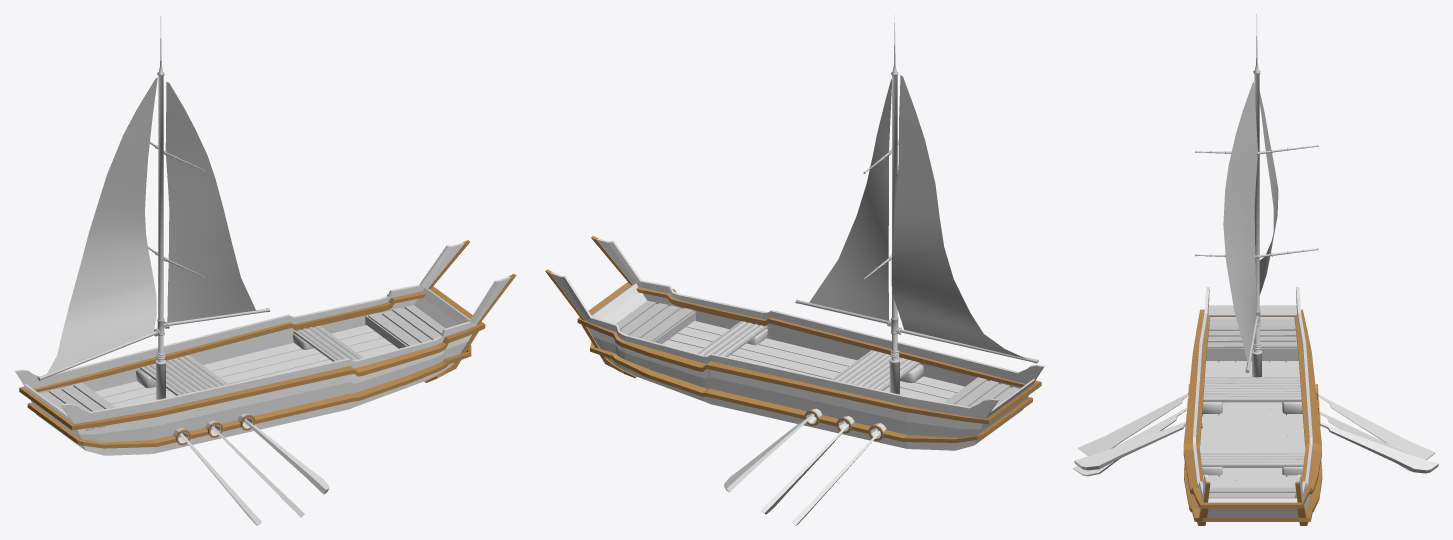
File: boat_C_UV.fbx
The picture shows the model from 3 angles, left to right: view 1: azimuth 30°, elevation 25°; view 2: azimuth 150°, elevation 25°; view 3: azimuth 270°, elevation 25°; orthographic projection. The views are drawn at different scales.
Visible parts, largest first — view 1: boat_C:Plane_013_Plane_015_Material_026, boat_C:steamer_002_Plane_153_steamer_002_Plane_153_Wood_003, boat_C:Phnom_Penh_045_Plane_240_Phnom_Penh_045_Plane_240_Glo, boat_C:Cube_326_Cube_346_Material_021, boat_C:Cube_314_Cube_330_Material_023, boat_C:Cylinder_010_Cylinder_010_Material_024, boat_C:Cylinder_077_Cylinder_083_Material_022, boat_C:Cube_981_Cube_1011_Cube_981_Cube_1011_Wood_004, boat_C:Cube_311_Cube_327_Material_028; view 2: boat_C:steamer_002_Plane_153_steamer_002_Plane_153_Wood_003, boat_C:Plane_013_Plane_015_Material_026, boat_C:Phnom_Penh_045_Plane_240_Phnom_Penh_045_Plane_240_Glo, boat_C:Cube_326_Cube_346_Material_021, boat_C:Cube_314_Cube_330_Material_023, boat_C:Cylinder_010_Cylinder_010_Material_024, boat_C:Cube_981_Cube_1011_Cube_981_Cube_1011_Wood_004, boat_C:Cylinder_077_Cylinder_083_Material_022, boat_C:Cube_311_Cube_327_Material_028; view 3: boat_C:Cube_326_Cube_346_Material_021, boat_C:Plane_013_Plane_015_Material_026, boat_C:Phnom_Penh_045_Plane_240_Phnom_Penh_045_Plane_240_Glo, boat_C:Cube_981_Cube_1011_Cube_981_Cube_1011_Wood_004, boat_C:steamer_002_Plane_153_steamer_002_Plane_153_Wood_003, boat_C:Cube_314_Cube_330_Material_023, boat_C:Cylinder_077_Cylinder_083_Material_022, boat_C:Cylinder_010_Cylinder_010_Material_024, boat_C:Cube_311_Cube_327_Material_028, boat_C:Cube_292_Cube_322_Material_027, boat_C:Cylinder_011_Cylinder_011_Material_029.
Boxes of the visible parts, x1,y1,x2,y2 form: boat_C:Plane_013_Plane_015_Material_026: [47, 77, 255, 373]; boat_C:steamer_002_Plane_153_steamer_002_Plane_153_Wood_003: [15, 242, 510, 455]; boat_C:Phnom_Penh_045_Plane_240_Phnom_Penh_045_Plane_240_Glo: [19, 286, 485, 448]; boat_C:Cube_326_Cube_346_Material_021: [95, 325, 398, 407]; boat_C:Cube_314_Cube_330_Material_023: [40, 305, 445, 430]; boat_C:Cylinder_010_Cylinder_010_Material_024: [37, 16, 270, 399]; boat_C:Cylinder_077_Cylinder_083_Material_022: [144, 326, 361, 394]; boat_C:Cube_981_Cube_1011_Cube_981_Cube_1011_Wood_004: [180, 419, 329, 525]; boat_C:Cube_311_Cube_327_Material_028: [47, 308, 440, 411]; boat_C:steamer_002_Plane_153_steamer_002_Plane_153_Wood_003: [550, 238, 1044, 450]; boat_C:Plane_013_Plane_015_Material_026: [809, 75, 1026, 358]; boat_C:Phnom_Penh_045_Plane_240_Phnom_Penh_045_Plane_240_Glo: [577, 282, 1041, 442]; boat_C:Cube_326_Cube_346_Material_021: [662, 320, 964, 402]; boat_C:Cube_314_Cube_330_Material_023: [616, 301, 1019, 407]; boat_C:Cylinder_010_Cylinder_010_Material_024: [795, 14, 1038, 394]; boat_C:Cube_981_Cube_1011_Cube_981_Cube_1011_Wood_004: [724, 383, 933, 525]; boat_C:Cylinder_077_Cylinder_083_Material_022: [698, 321, 915, 389]; boat_C:Cube_311_Cube_327_Material_028: [621, 304, 1011, 406]; boat_C:Cube_326_Cube_346_Material_021: [1202, 361, 1302, 487]; boat_C:Plane_013_Plane_015_Material_026: [1223, 82, 1278, 362]; boat_C:Phnom_Penh_045_Plane_240_Phnom_Penh_045_Plane_240_Glo: [1183, 309, 1322, 521]; boat_C:Cube_981_Cube_1011_Cube_981_Cube_1011_Wood_004: [1073, 393, 1438, 476]; boat_C:steamer_002_Plane_153_steamer_002_Plane_153_Wood_003: [1193, 287, 1312, 517]; boat_C:Cube_314_Cube_330_Material_023: [1200, 325, 1304, 498]; boat_C:Cylinder_077_Cylinder_083_Material_022: [1200, 378, 1304, 467]; boat_C:Cylinder_010_Cylinder_010_Material_024: [1245, 14, 1262, 377]; boat_C:Cube_311_Cube_327_Material_028: [1206, 330, 1298, 493]; boat_C:Cube_292_Cube_322_Material_027: [1202, 402, 1302, 476]; boat_C:Cylinder_011_Cylinder_011_Material_029: [1196, 145, 1318, 257].
Size of the model in its own units: 125 by 117 by 88.31.
